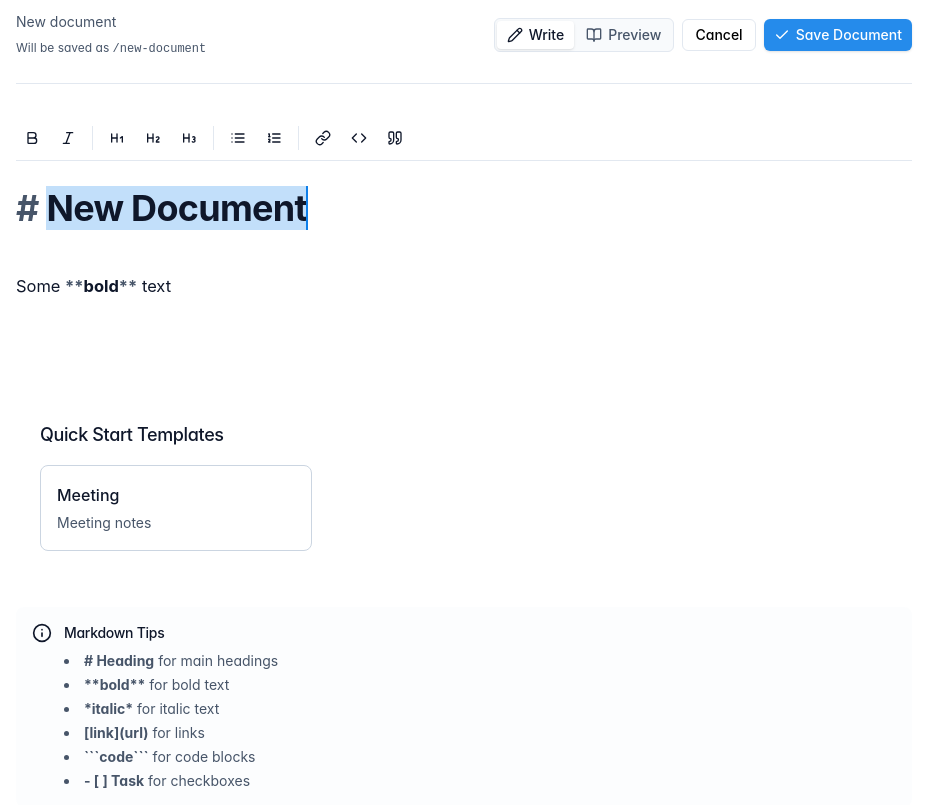
new document page › previews the draft and comes back to the same editor
Expected: the element with class "cm-editor" is shown, [16,186,308,296]
What coordinates should you click on to do the following:
click the radio button with test id "preview-mode-button"
I would click on:
 (624, 35)
Its box is [576,21,672,49].
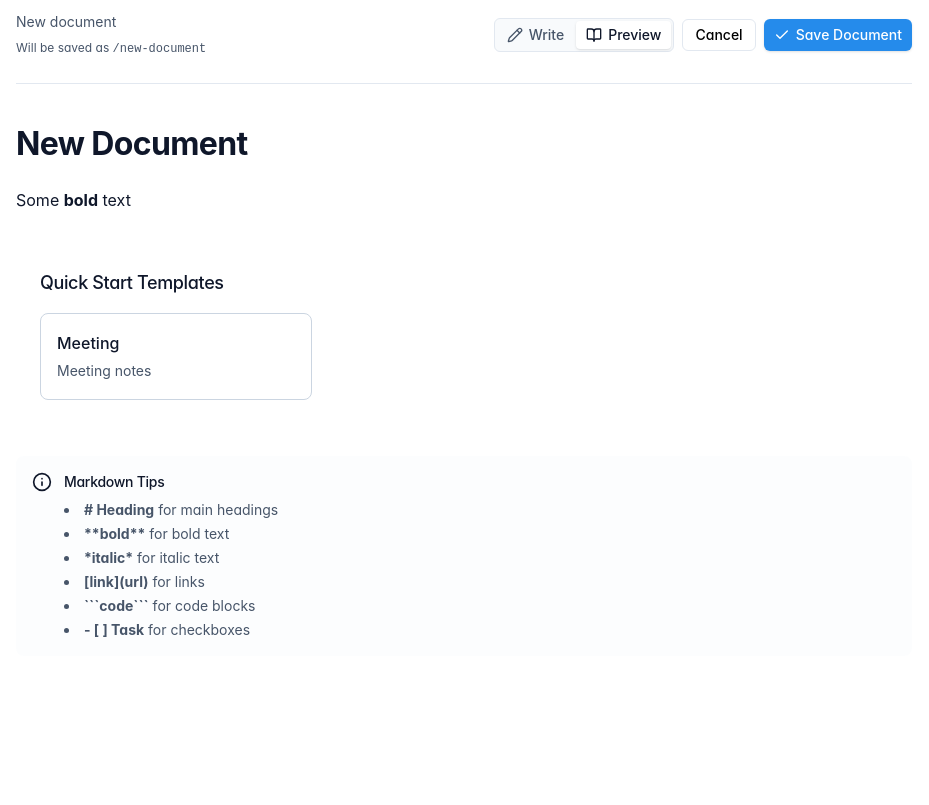
Expected: the text "bold" is shown, [64,190,98,210]
What coordinates should you click on to do the following:
click the radio button with test id "edit-mode-button"
I would click on:
 (535, 35)
Its box is [497,21,574,49].
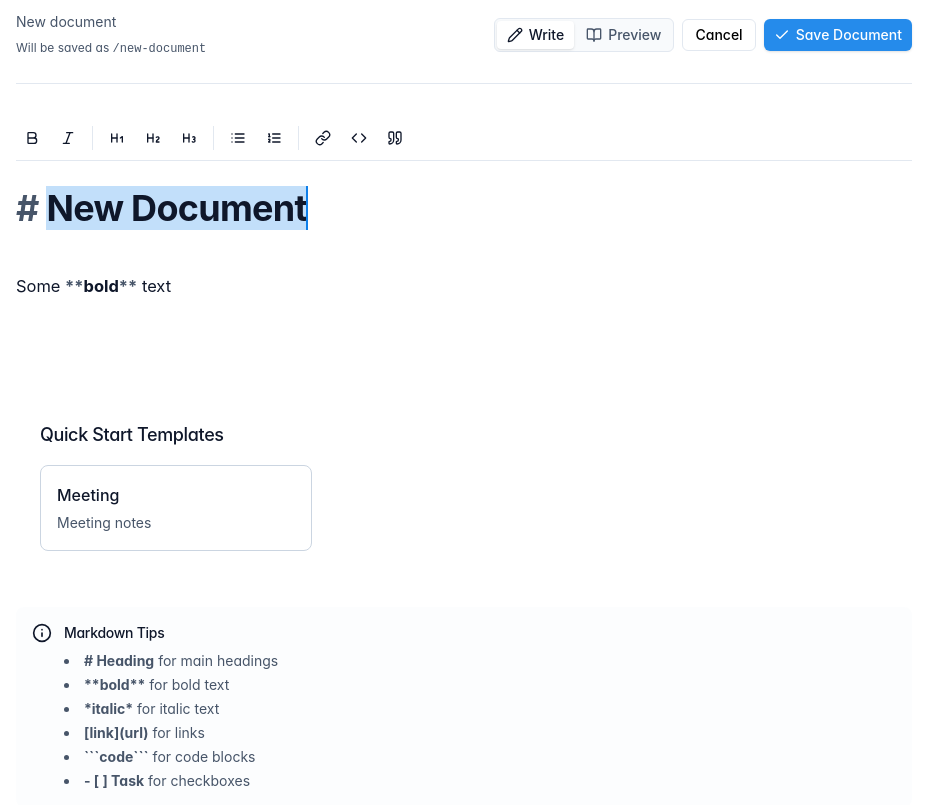
Now the element with test id "markdown-preview" is gone
Now the element with class "cm-editor" is shown, box [16,186,308,296]
